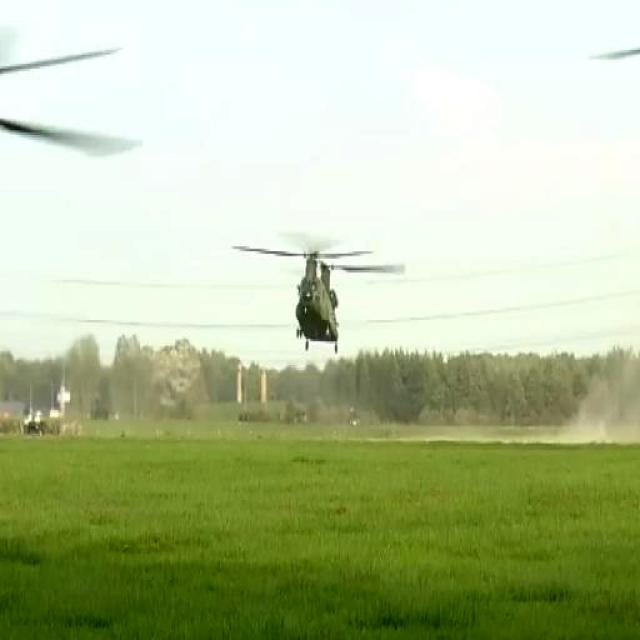drone: (0, 0, 144, 344), (220, 211, 419, 365)
